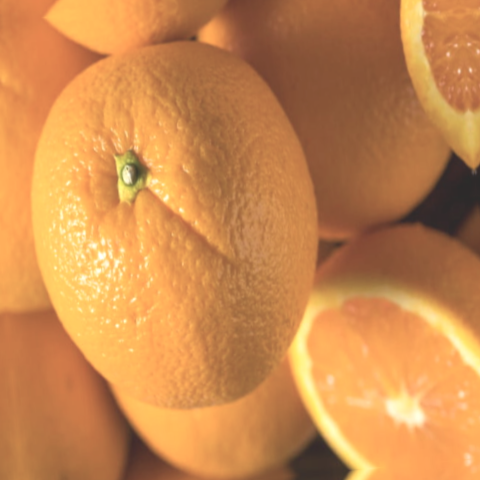orange: (0, 10, 349, 452)
